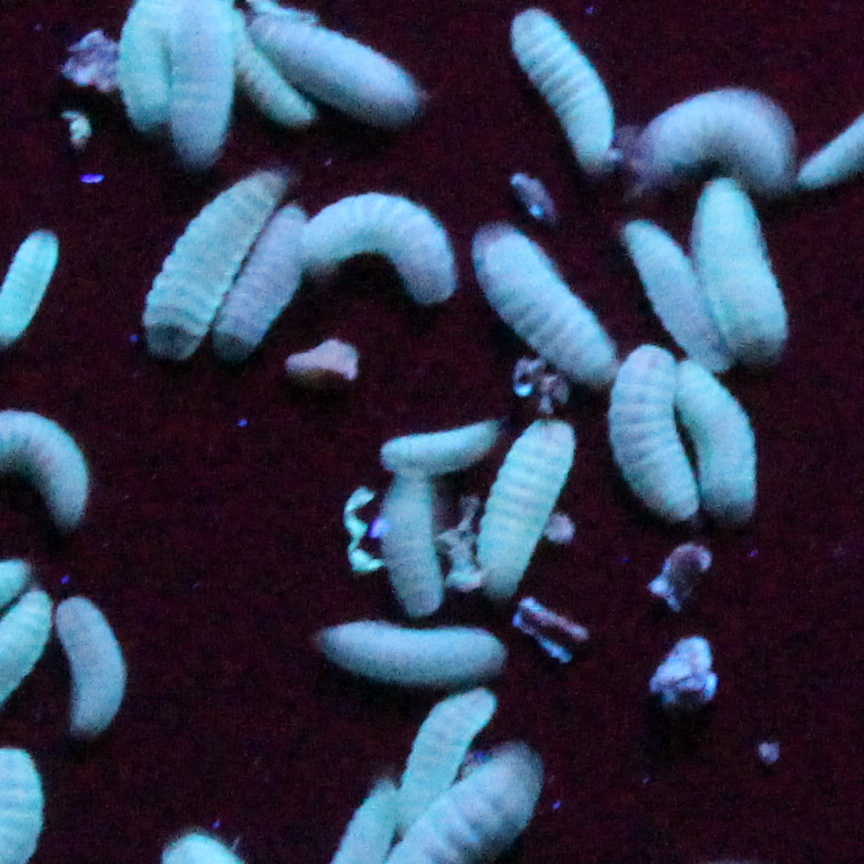larve: (146, 170, 292, 355), (463, 214, 618, 380), (623, 77, 792, 200), (252, 3, 429, 120), (303, 197, 455, 317), (701, 180, 792, 360), (603, 349, 695, 517), (217, 210, 308, 355), (323, 617, 509, 686), (400, 697, 491, 833), (618, 212, 703, 352), (692, 372, 766, 520), (59, 595, 130, 735), (375, 486, 446, 617), (383, 412, 501, 472)
